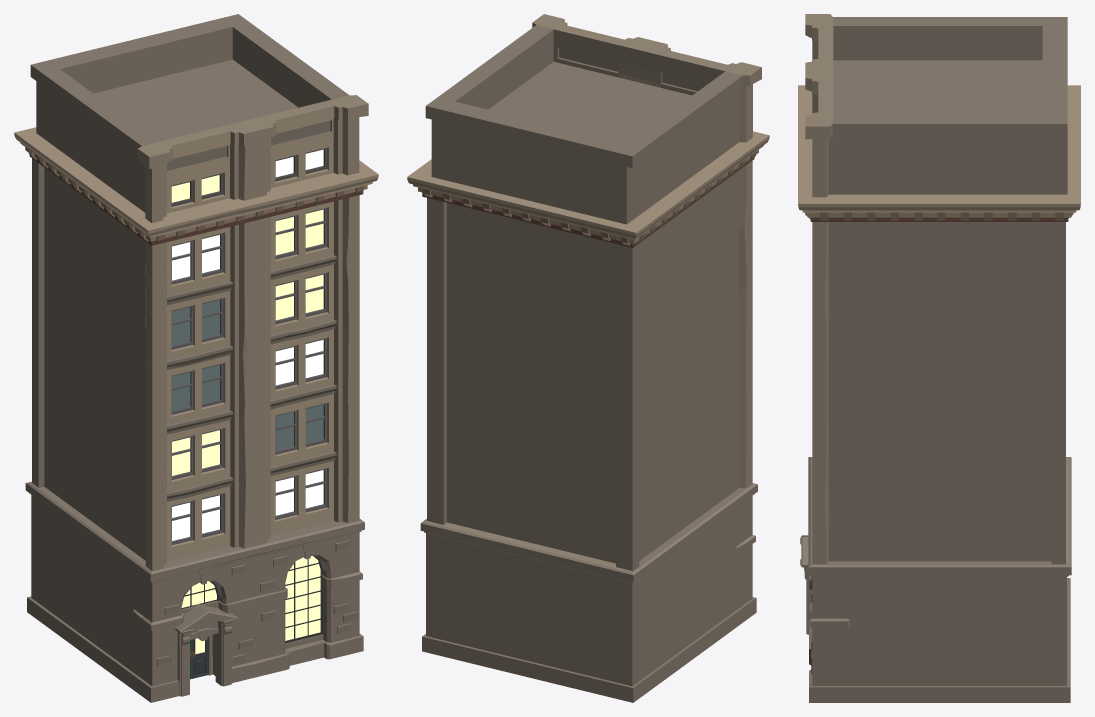
File: SM_Bld_OfficeOld_Small_02.fbx
3 views of the same model, side by side, from view 1: azimuth 30°, elevation 25°; view 2: azimuth 150°, elevation 25°; view 3: azimuth 270°, elevation 25° (orthographic). The views are drawn at different scales.
Parts seen in each view (by area): view 1: SM_Bld_OfficeOld_Small_02; view 2: SM_Bld_OfficeOld_Small_02; view 3: SM_Bld_OfficeOld_Small_02.
Part boxes in pixels (x1,y1,x2,y2): SM_Bld_OfficeOld_Small_02: (14, 14, 378, 702); SM_Bld_OfficeOld_Small_02: (407, 14, 769, 702); SM_Bld_OfficeOld_Small_02: (798, 14, 1080, 702).
Bounding box in the file's own units: 1112 × 2525 × 1120.
